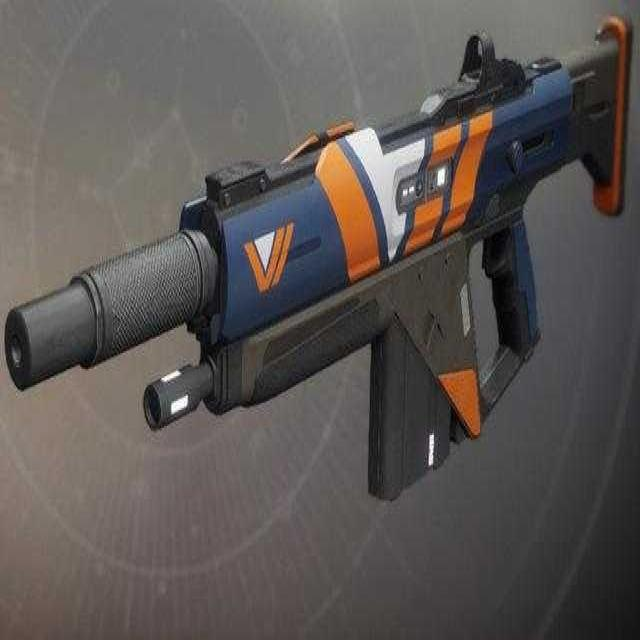heavyweapon: (1, 12, 637, 536)
